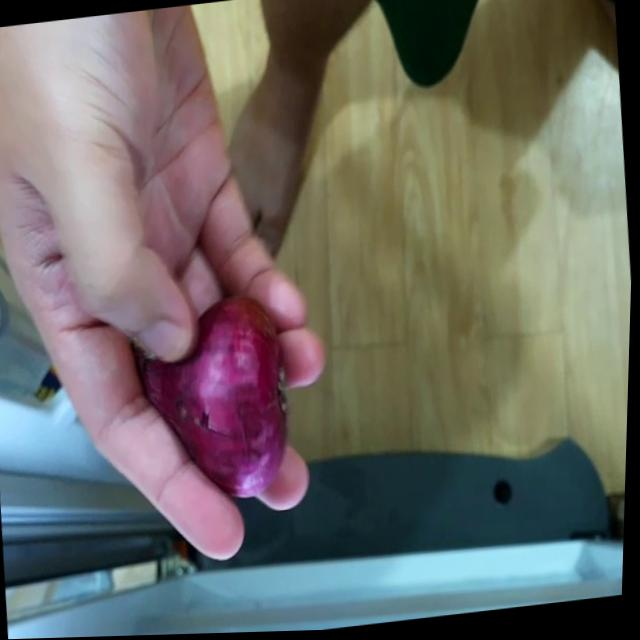onion: (139, 296, 306, 514)
